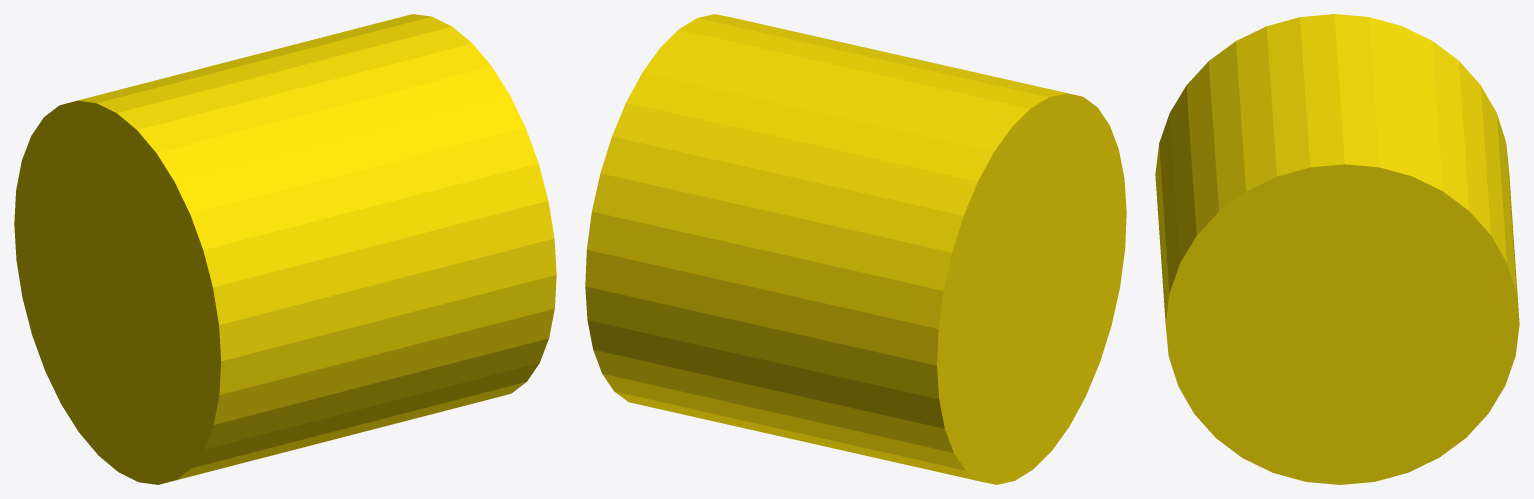
Rendered from switch_push.obj.
The picture shows the model from 3 angles, left to right: view 1: azimuth 30°, elevation 25°; view 2: azimuth 150°, elevation 25°; view 3: azimuth 270°, elevation 25°; orthographic projection. The views are drawn at different scales.
Parts seen in each view (by area): view 1: 円柱; view 2: 円柱; view 3: 円柱.
Part boxes in pixels (x1,y1,x2,y2): 円柱: (14, 14, 556, 484); 円柱: (585, 14, 1126, 484); 円柱: (1155, 14, 1519, 484).
Size of the model in its own units: 1.37 by 1.34 by 1.37.
1 material, 1 textured.
